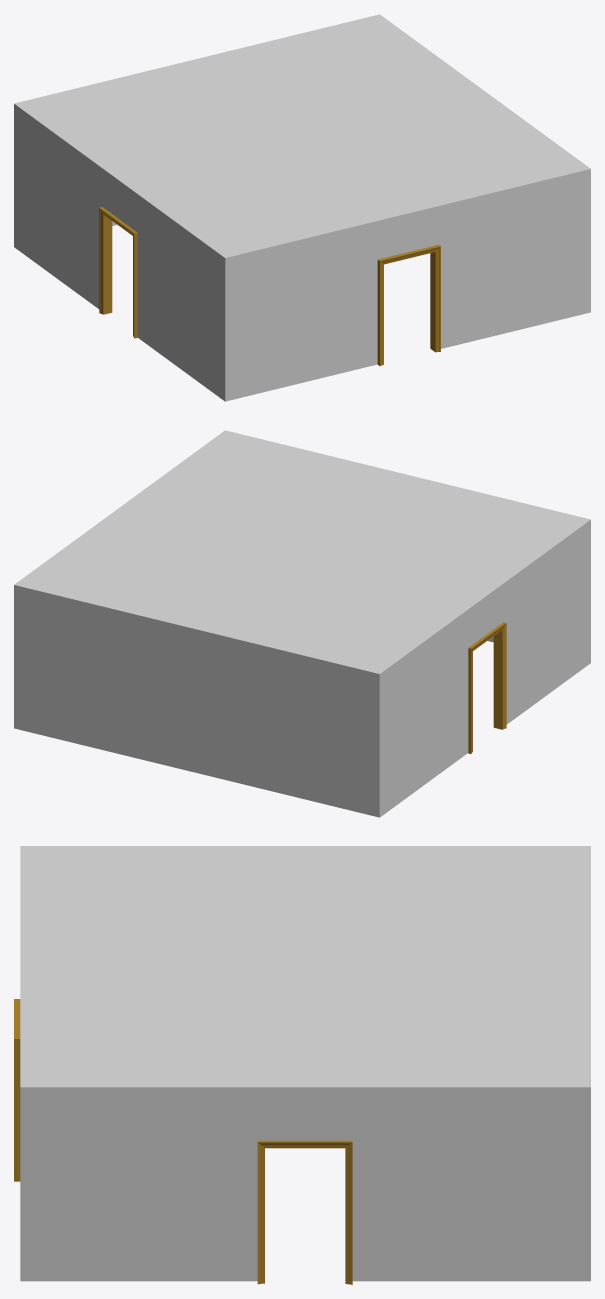
File: South_West_East.fbx
3 renders of one model, top to bottom at view 1: azimuth 30°, elevation 25°; view 2: azimuth 150°, elevation 25°; view 3: azimuth 270°, elevation 25°, orthographic. The views are drawn at different scales.
Visible parts, largest first — view 1: Room, Ceiling, Cube.010, Cube.002; view 2: Room, Ceiling, Cube.002; view 3: Ceiling, Room, Cube.001, Cube.010.
Boxes of the visible parts, x1,y1,x2,y2 form: Room: (14, 14, 590, 401); Ceiling: (16, 14, 589, 256); Cube.010: (377, 244, 440, 366); Cube.002: (99, 207, 137, 338); Room: (14, 430, 590, 817); Ceiling: (14, 431, 589, 673); Cube.002: (468, 622, 506, 753); Ceiling: (20, 846, 590, 1087); Room: (20, 846, 590, 1281); Cube.001: (257, 1140, 352, 1284); Cube.010: (14, 999, 20, 1181).
Bounding box in the file's own units: 813 × 303 × 809.
